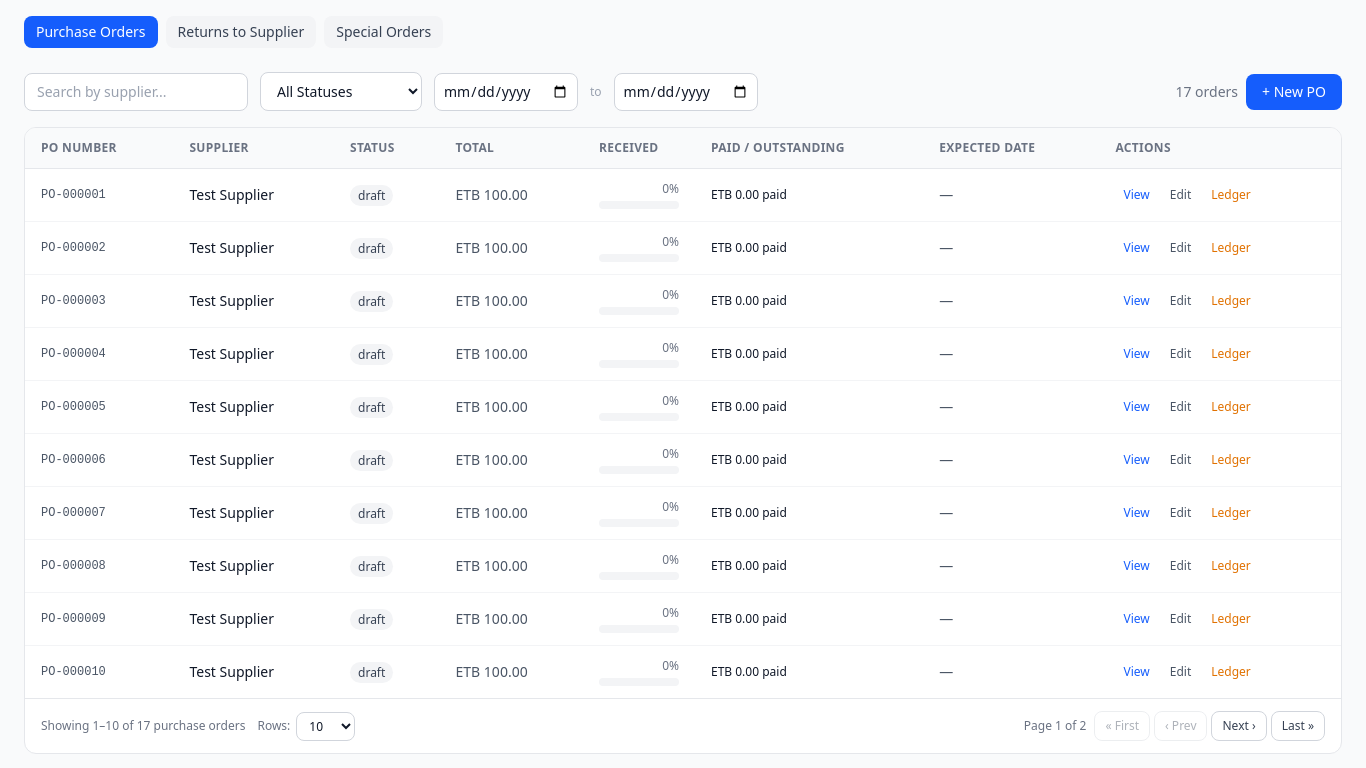
Test: ProcurementPage — pagination › clicking Last jumps straight to the final page
Expected: the text "Page 1 of 2" is shown, [1024,718,1086,734]
Click the button with aria-label "last page".
click(1298, 726)  # box [1271,711,1325,741]
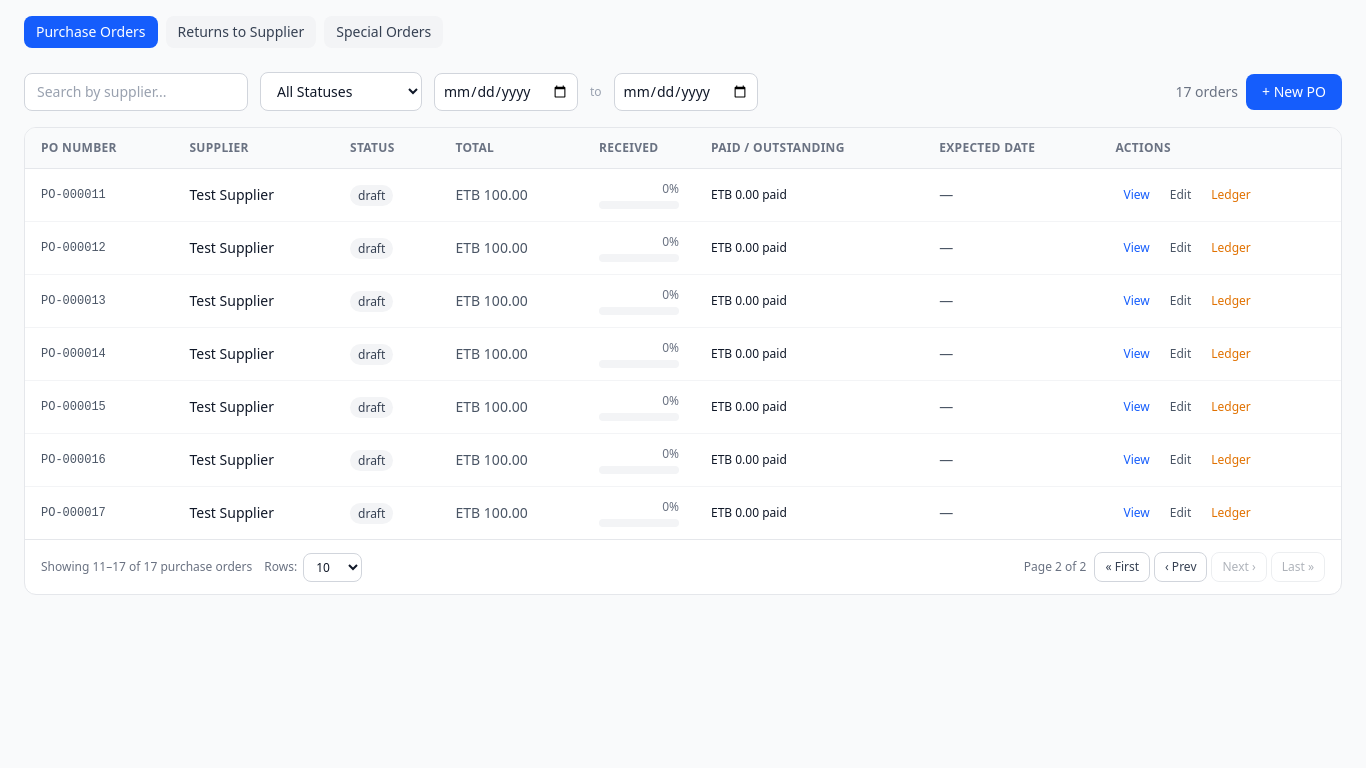
Now the text "Page 2 of 2" is shown, box [1024,559,1086,575]
